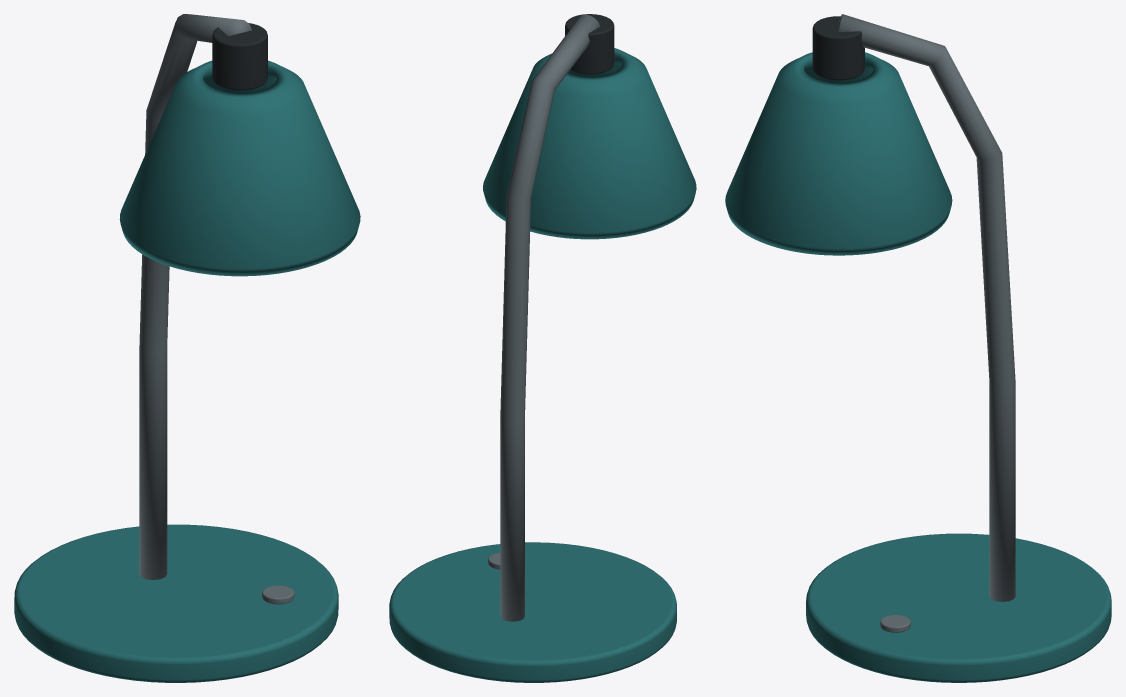
The model's file is lamp_01.glb.
3 views of the same model, side by side, from view 1: azimuth 30°, elevation 25°; view 2: azimuth 150°, elevation 25°; view 3: azimuth 270°, elevation 25° (orthographic). The views are drawn at different scales.
Visible parts, largest first — view 1: lamp_01; view 2: lamp_01; view 3: lamp_01.
Boxes of the visible parts, x1=… form: lamp_01: x1=14, y1=14, x2=360, y2=682; lamp_01: x1=389, y1=14, x2=696, y2=682; lamp_01: x1=725, y1=14, x2=1111, y2=682.
Size of the model in its own units: 0.14 by 0.3057 by 0.177.
Materials: 4 (4 with a texture image).
